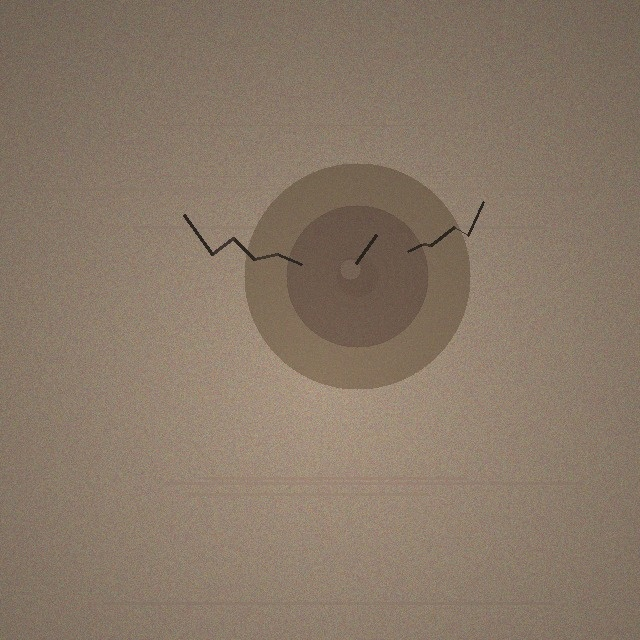crack: (244, 163, 470, 389)
